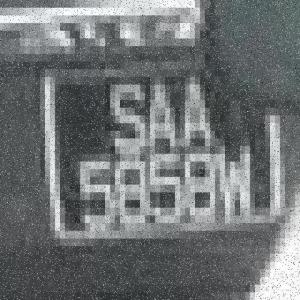Plate: (40, 66, 288, 250)
